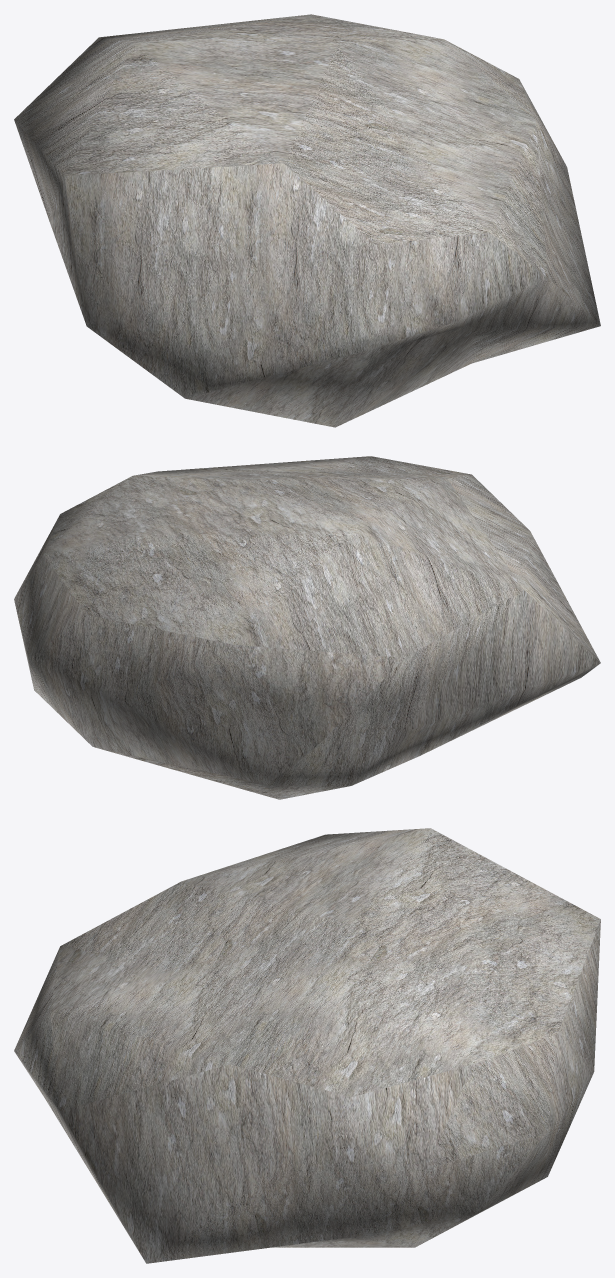
File: rock.glb
The picture shows the model from 3 angles, top to bottom: view 1: azimuth 30°, elevation 25°; view 2: azimuth 150°, elevation 25°; view 3: azimuth 270°, elevation 25°; orthographic projection. The views are drawn at different scales.
Parts seen in each view (by area): view 1: rock; view 2: rock; view 3: rock.
Part boxes in pixels (x1,y1,x2,y2): rock: (14, 14, 600, 427); rock: (14, 456, 600, 799); rock: (14, 828, 600, 1263).
Size of the model in its own units: 1.78 by 1.09 by 1.72.
1 material, 1 textured.
